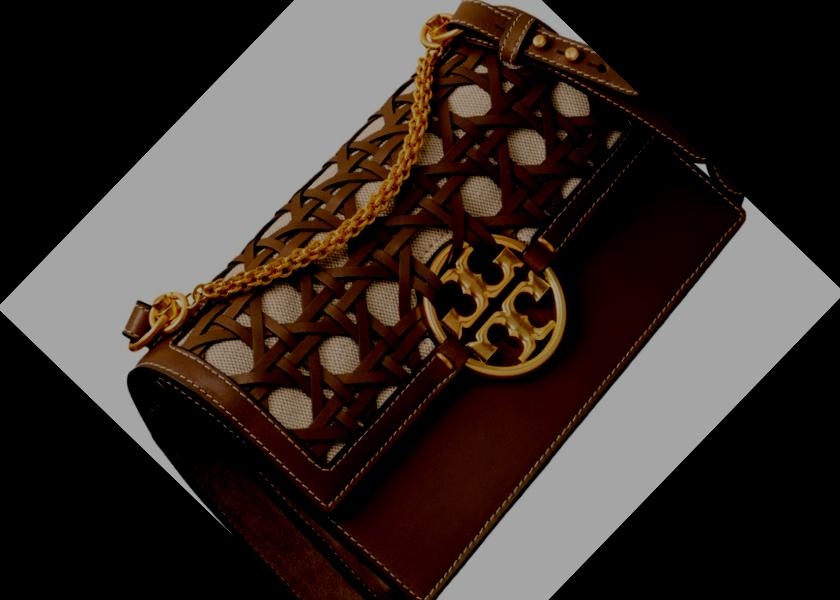TORY-BURCH: (391, 202, 596, 406)
